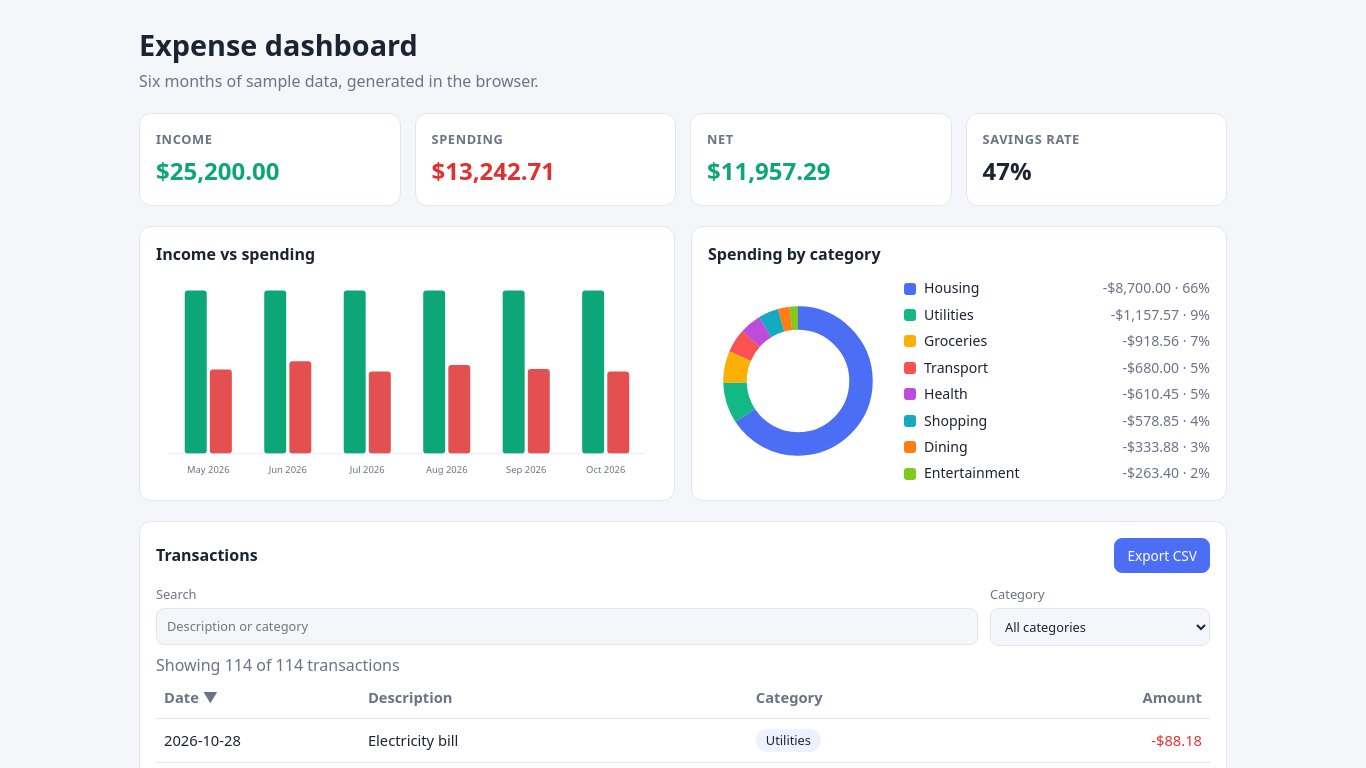
Scenario: App › narrows the table with the search box
In the search field labelled "Search": x=567, y=626 156,608 -> 978,644, type "zzz-no-match"
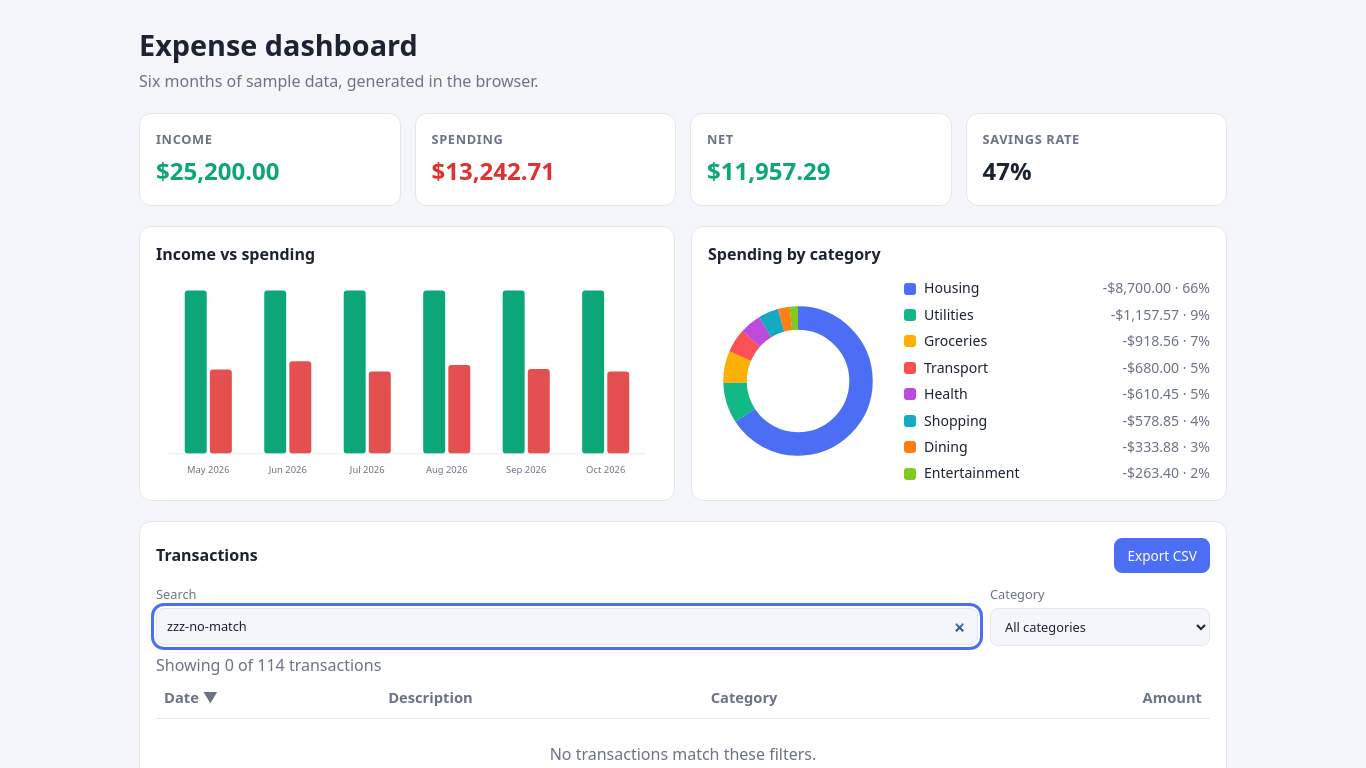
Result: the text "No transactions match these filters." is shown at 550,744 -> 816,766
